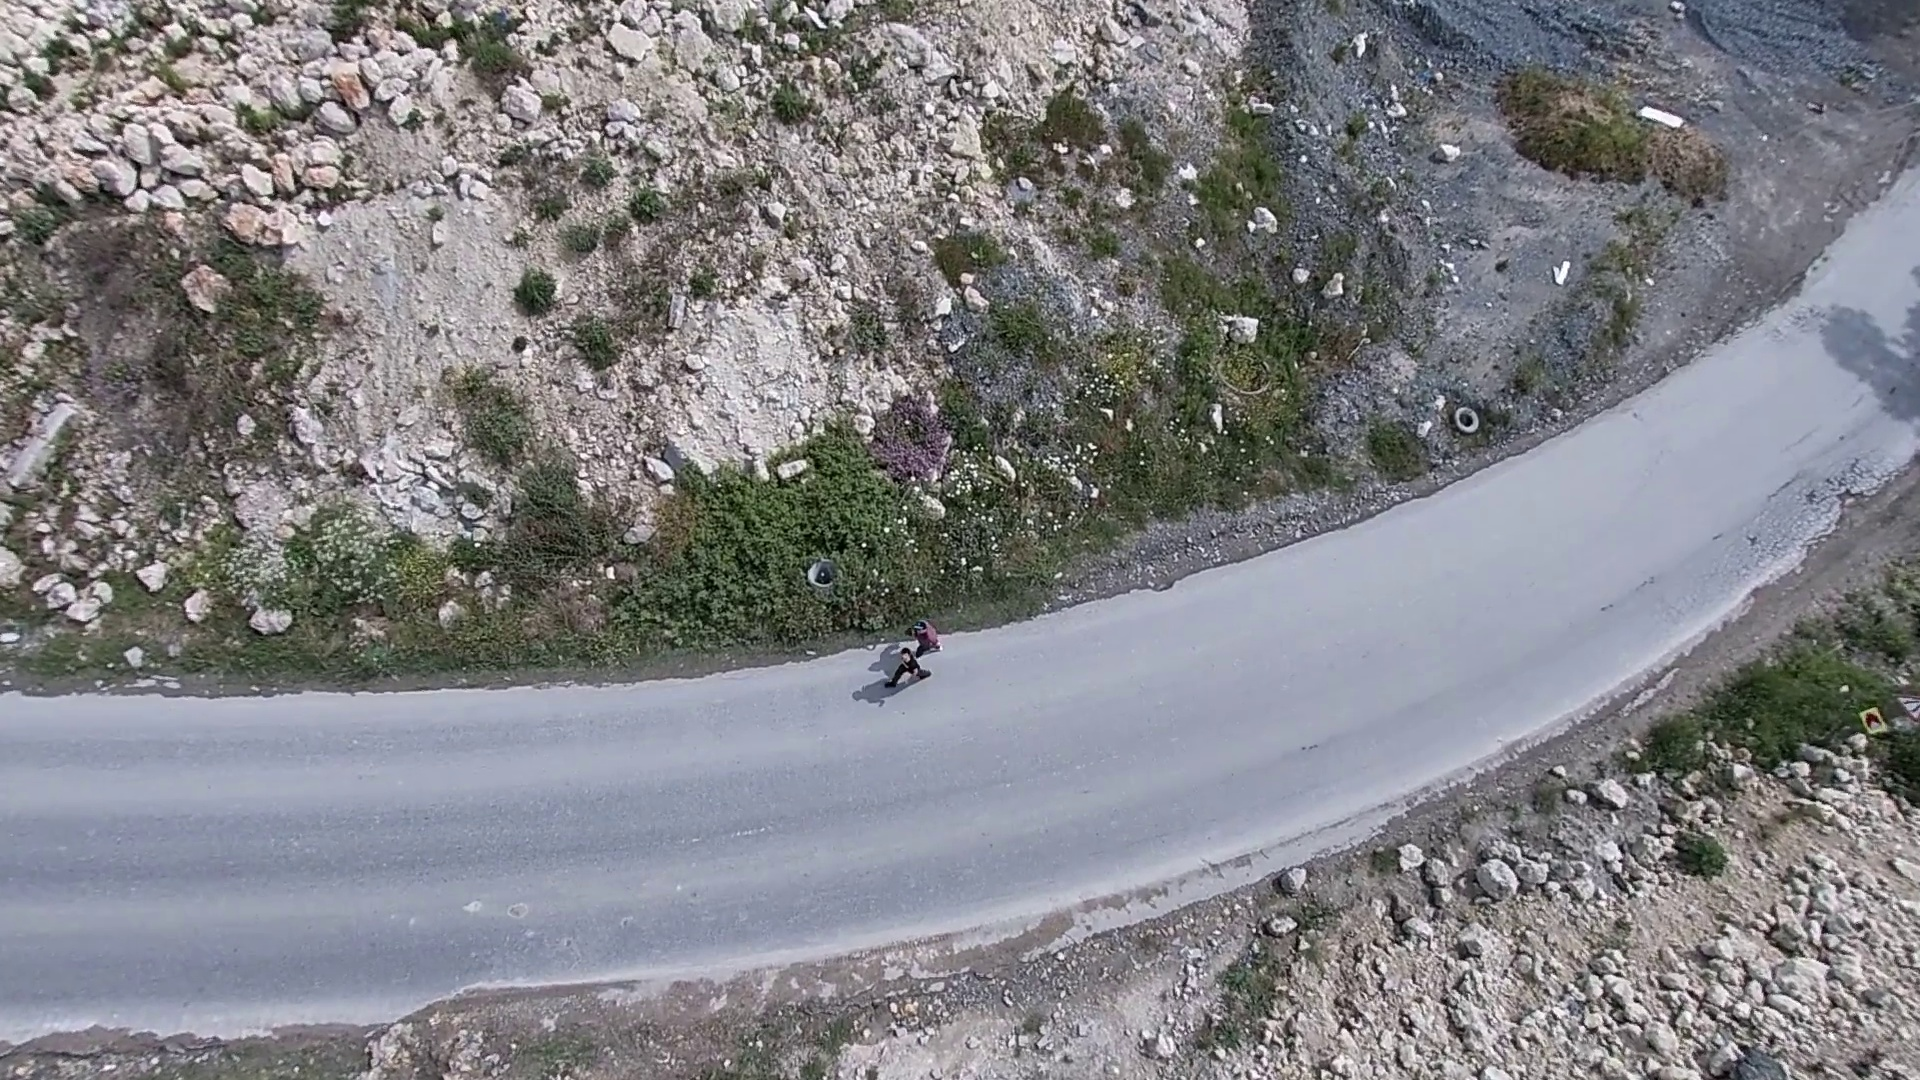insan: (887, 646, 935, 696), (912, 623, 948, 657)
